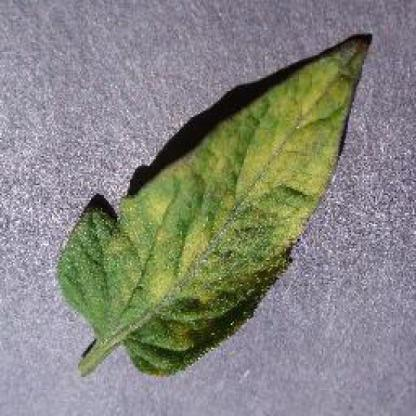Tomato_Leaf_Mold: (59, 35, 370, 371)
